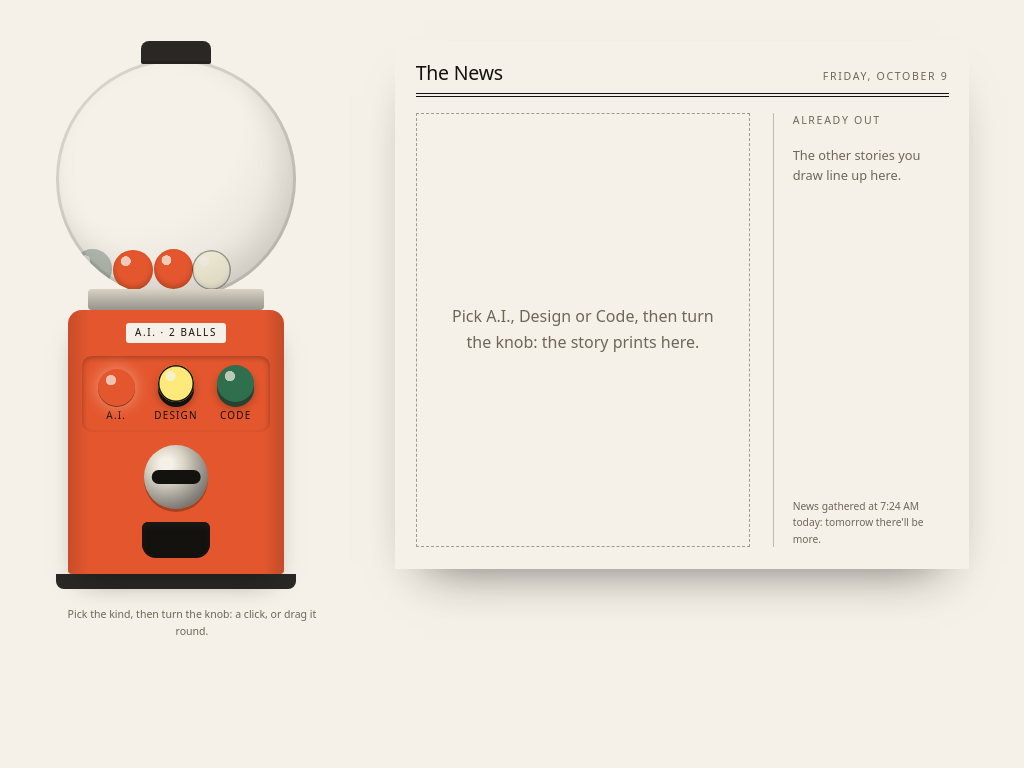
Scenario: le notizie in inglese › la cornice e' in inglese, le notizie restano come sono
(page scrolled)
Check: the buttons read "A.I.", "Design", "Code", in this order, box [90,364,143,425]; [149,364,203,425]; [209,364,262,425]
Check: the text "A.I. · 2 balls" is shown, box [126,323,226,343]
Click the button named "Turn the knob: out comes a story" at (176, 477), box [144,445,208,509]
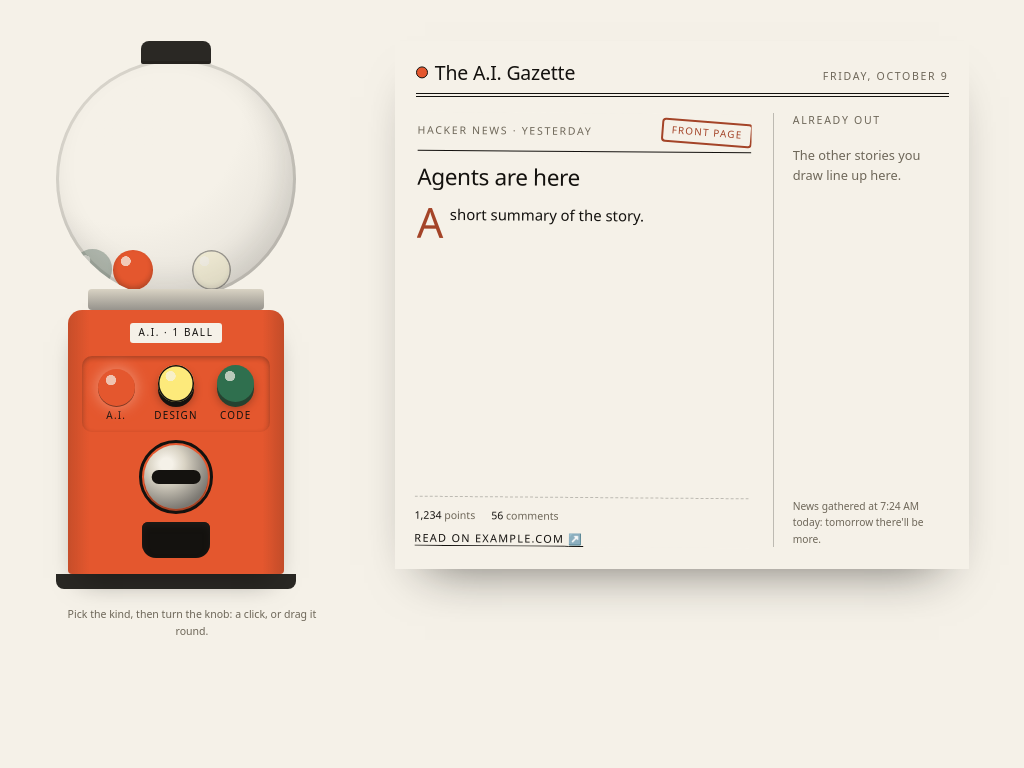
Check: the element showing "The A.I. Gazette" is shown, box [416,61,575,85]
Check: the element that starts with "Hacker News" shows "Hacker News · yesterday", box [414,112,752,548]
Check: the element that starts with "Hacker News" shows "front page", box [670,123,742,142]
